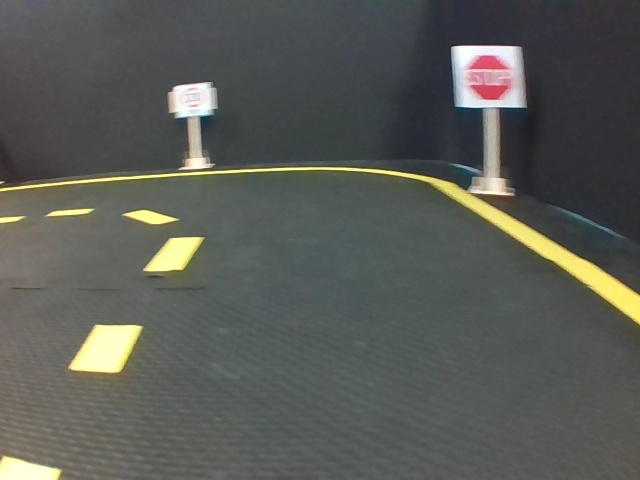30: (174, 84, 209, 115)
stop: (456, 45, 527, 108)
